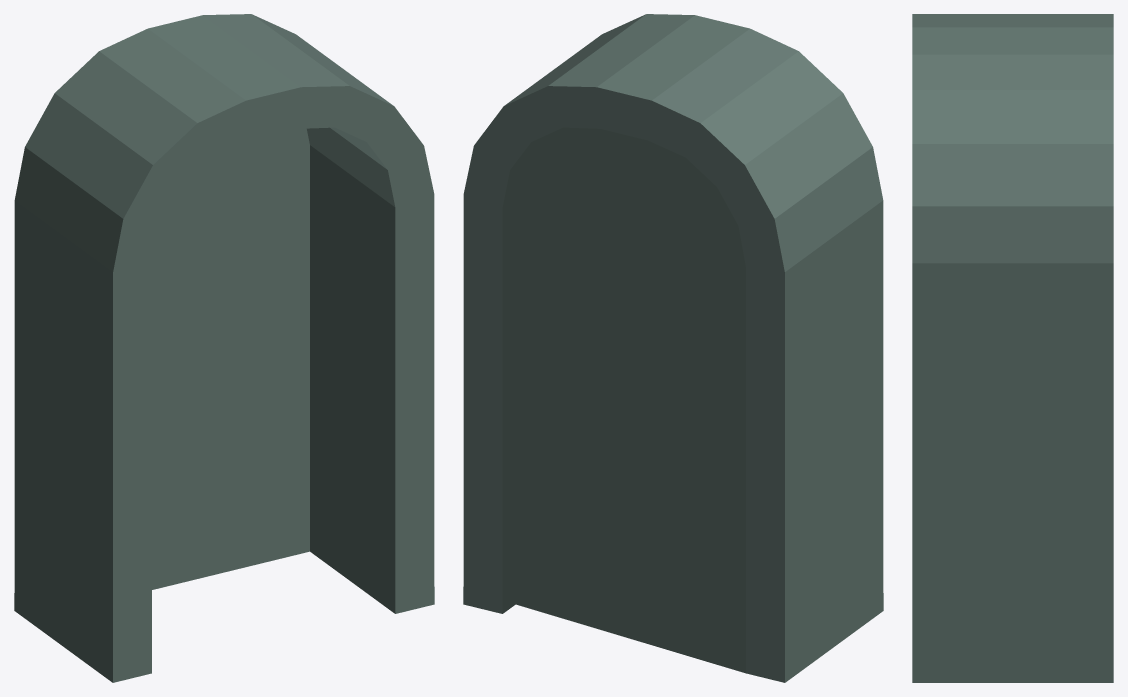
File: DoorArch.fbx
3 renders of one model, left to right at view 1: azimuth 30°, elevation 25°; view 2: azimuth 150°, elevation 25°; view 3: azimuth 270°, elevation 25°, orthographic. The views are drawn at different scales.
Parts seen in each view (by area): view 1: DoorArch; view 2: DoorArch; view 3: DoorArch.
Boxes of the visible parts, x1,y1,x2,y2 form: DoorArch: (14,14,434,682); DoorArch: (463,14,883,682); DoorArch: (912,14,1113,682).
Bounding box in the file's own units: 1.32 × 2.16 × 0.701.
